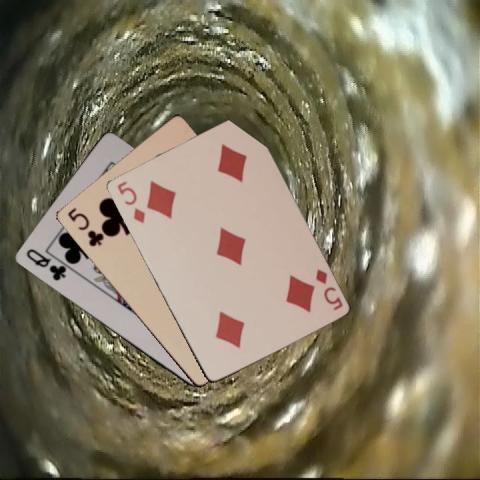5c: (64, 204, 104, 248)
5d: (113, 178, 147, 225), (312, 265, 344, 312)
Qc: (23, 245, 67, 283)
